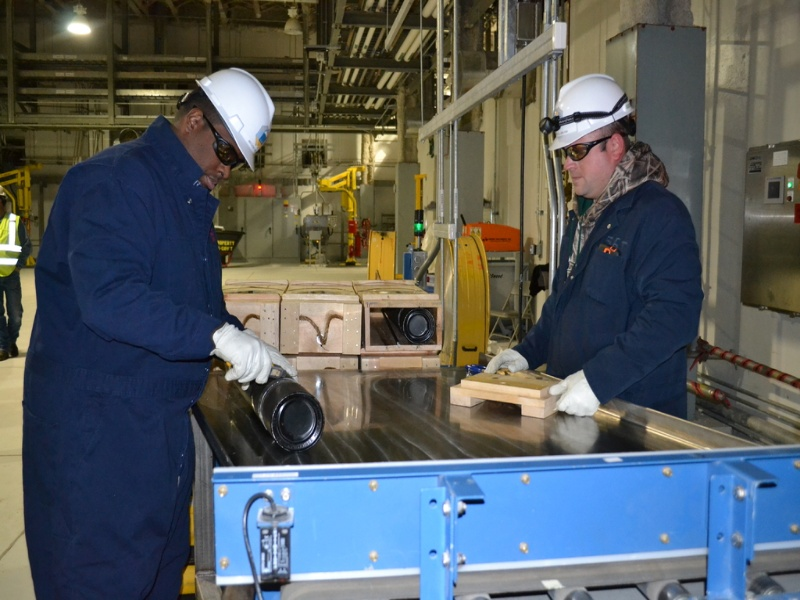helmet: (204, 66, 280, 162), (554, 71, 635, 148)
